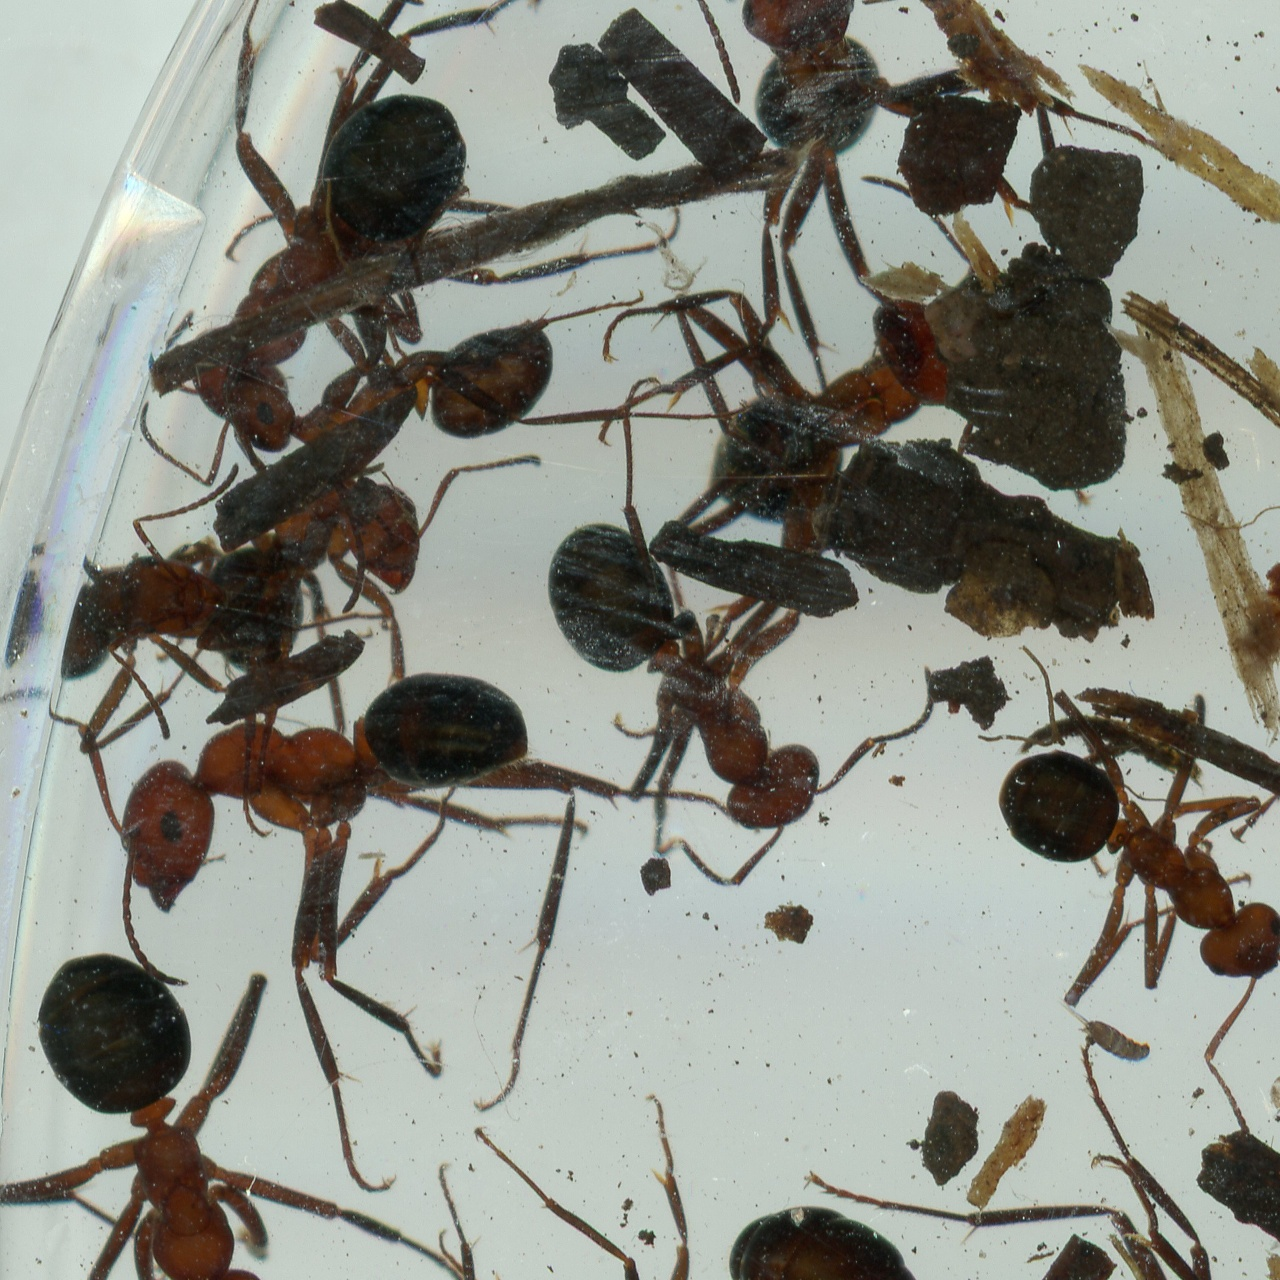arthropod: (38, 538, 804, 1250), (61, 0, 768, 624), (385, 0, 1149, 519), (385, 347, 974, 943), (894, 612, 1280, 1160), (0, 934, 482, 1280), (592, 160, 1002, 558), (797, 1011, 1280, 1280), (135, 275, 669, 491), (48, 468, 336, 749), (247, 446, 559, 685), (426, 1086, 731, 1280), (704, 1199, 1135, 1280), (1052, 997, 1158, 1072), (1264, 1048, 1280, 1117)
